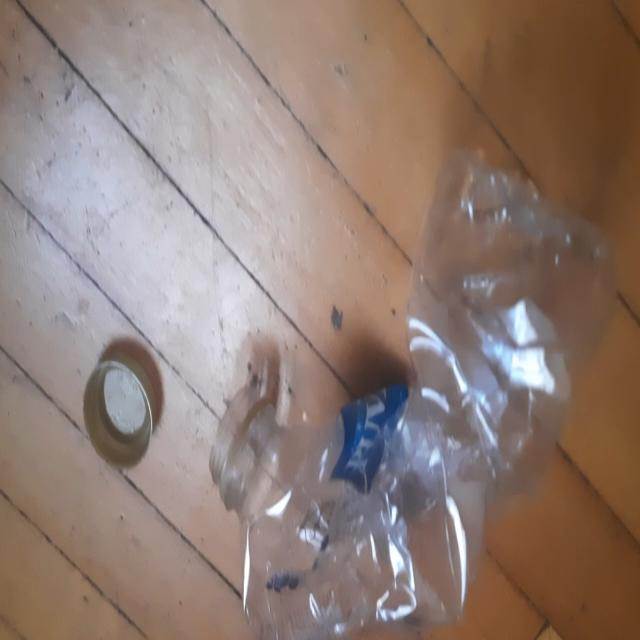Plastic: (212, 146, 618, 637)
